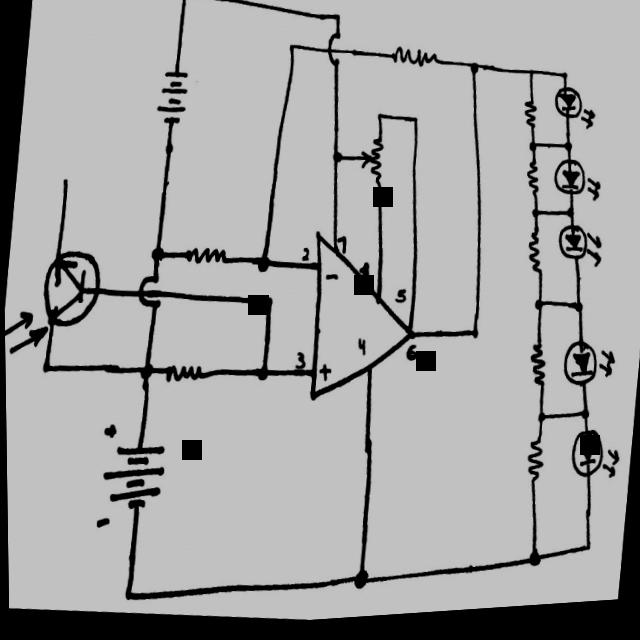crossover: (136, 273, 162, 311), (326, 34, 344, 73)
diode: (567, 434, 623, 488), (559, 347, 615, 396), (550, 164, 602, 210), (554, 230, 603, 276), (551, 90, 596, 139)
junction: (134, 354, 159, 387), (560, 207, 580, 232), (348, 572, 370, 594), (523, 142, 542, 165), (327, 149, 346, 172), (37, 355, 54, 380), (253, 255, 271, 277), (524, 554, 542, 575), (254, 363, 269, 385), (260, 295, 275, 317), (118, 586, 135, 605), (569, 305, 585, 325), (466, 64, 482, 83), (148, 248, 166, 264), (532, 415, 547, 433), (528, 210, 542, 229), (531, 301, 544, 319), (284, 44, 297, 62), (468, 331, 480, 348), (561, 145, 575, 159), (332, 14, 344, 30), (578, 413, 590, 428), (580, 547, 591, 563), (409, 119, 419, 132), (374, 116, 384, 128), (559, 78, 568, 90), (526, 75, 535, 86), (179, 0, 190, 8)
resistor: (356, 134, 386, 191), (520, 442, 545, 490), (389, 51, 437, 74), (523, 233, 545, 283), (526, 349, 548, 394), (184, 247, 226, 268), (162, 364, 203, 385), (524, 164, 541, 201), (521, 103, 538, 137)
source: (92, 424, 166, 531), (154, 70, 188, 129)
terminal: (58, 172, 72, 191)
text: (316, 366, 331, 387), (358, 266, 373, 287), (353, 340, 367, 362), (402, 346, 416, 368), (292, 354, 307, 374), (392, 292, 406, 309), (336, 239, 346, 259), (300, 251, 310, 265), (323, 277, 337, 285)
transistor: (4, 245, 102, 360)
